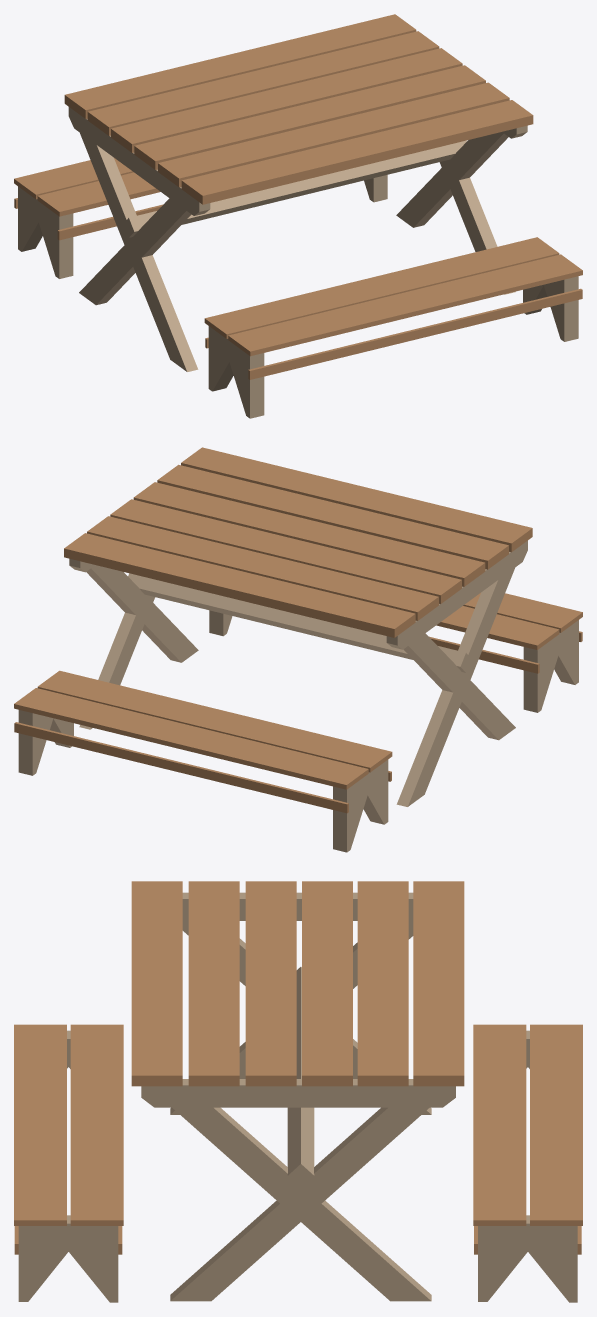
File: Wild Bench.fbx
3 renders of one model, top to bottom at view 1: azimuth 30°, elevation 25°; view 2: azimuth 150°, elevation 25°; view 3: azimuth 270°, elevation 25°, orthographic. The views are drawn at different scales.
Visible parts, largest first — view 1: Cube.002; view 2: Cube.002; view 3: Cube.002.
Boxes of the visible parts, box(x1,y1,x2,y2) form: Cube.002: box(14, 14, 582, 418); Cube.002: box(14, 447, 582, 852); Cube.002: box(14, 881, 582, 1302).
Size of the model in its own units: 306 by 165 by 373.
